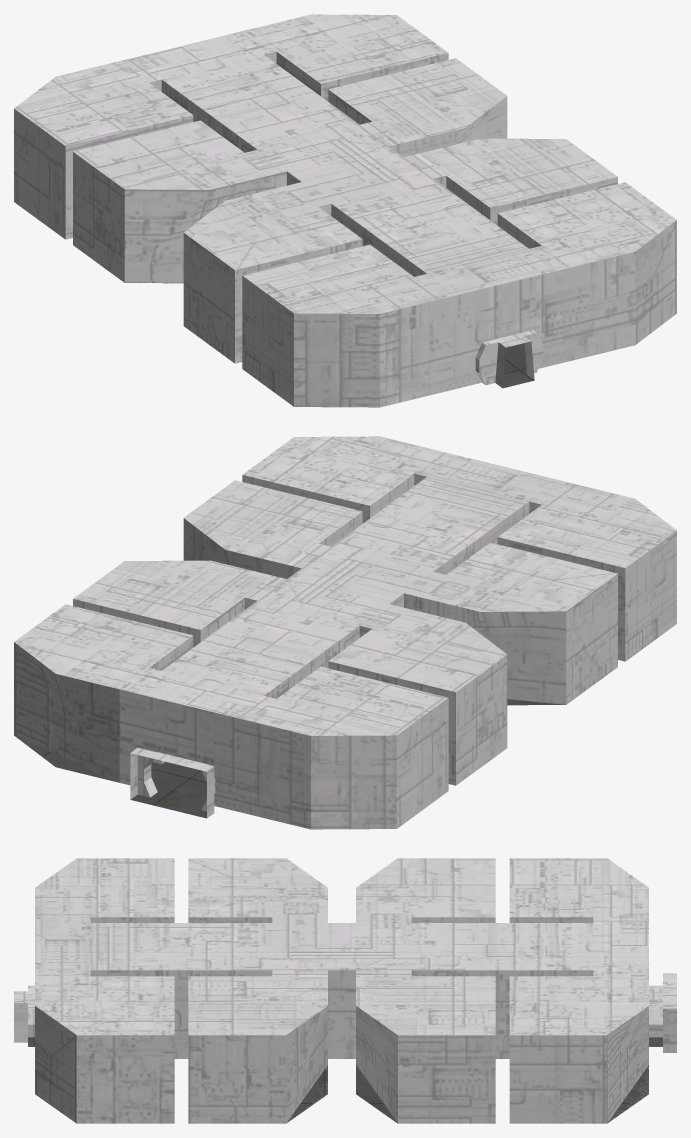
File: thm_spc_star_destroyer_s01_r5_officerqrtr_mesh_r5.fbx
3 renders of one model, top to bottom at view 1: azimuth 30°, elevation 25°; view 2: azimuth 150°, elevation 25°; view 3: azimuth 270°, elevation 25°, orthographic. The views are drawn at different scales.
Visible parts, largest first — view 1: mesh_node; view 2: mesh_node; view 3: mesh_node.
Boxes of the visible parts, x1,y1,x2,y2 form: mesh_node: (14, 14, 676, 407); mesh_node: (14, 436, 676, 829); mesh_node: (14, 858, 676, 1123).
Bounding box in the file's own units: 30 × 7 × 47.5.
Materials: 2 (2 with a texture image).
